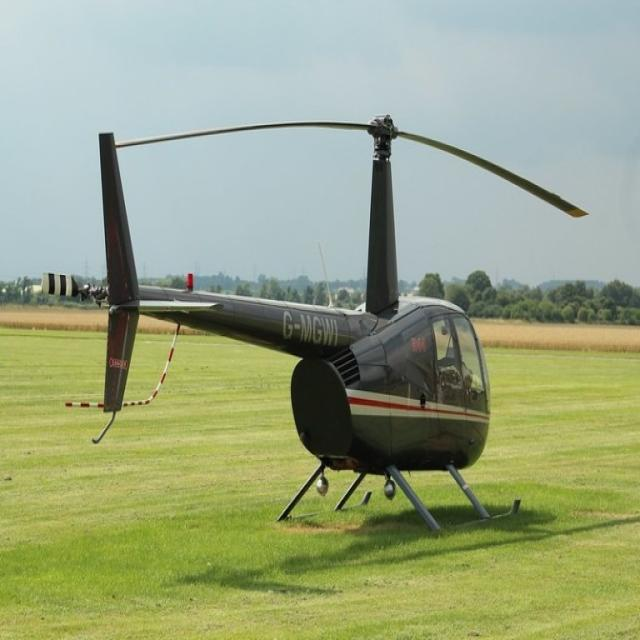CIV_HELO: (93, 111, 524, 544)
